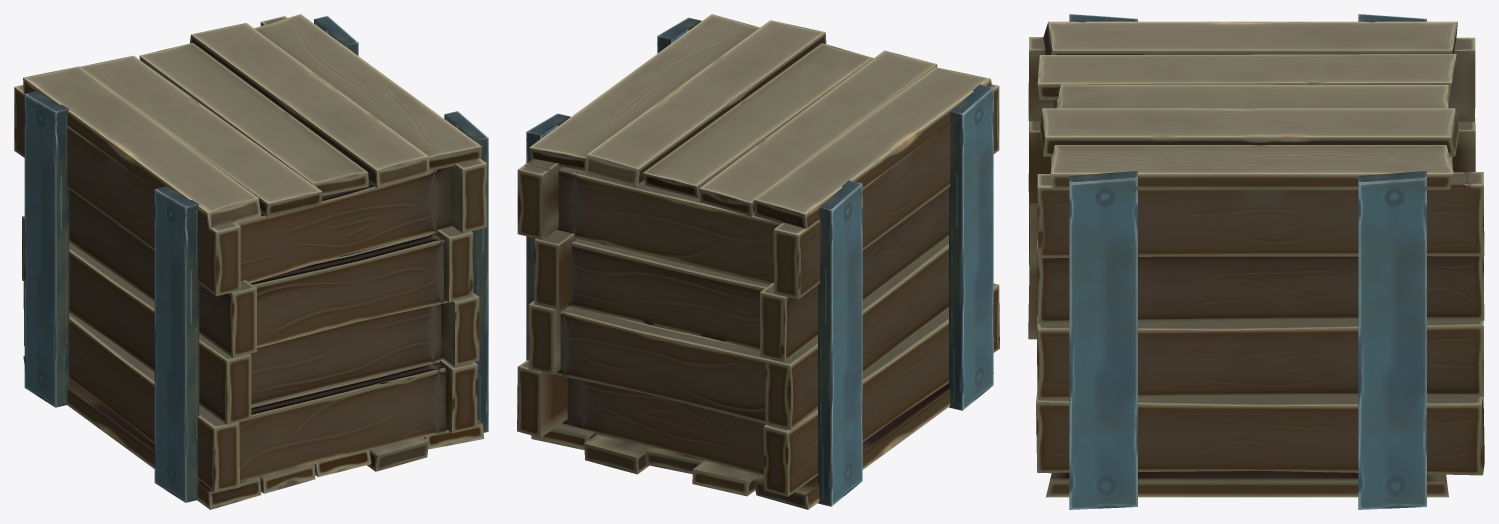
File: SM_Crate_02.fbx
The picture shows the model from 3 angles, left to right: view 1: azimuth 30°, elevation 25°; view 2: azimuth 150°, elevation 25°; view 3: azimuth 270°, elevation 25°; orthographic projection. The views are drawn at different scales.
Parts seen in each view (by area): view 1: SM_Crate_02_LOD0; view 2: SM_Crate_02_LOD0; view 3: SM_Crate_02_LOD0.
Boxes of the visible parts, x1,y1,x2,y2 form: SM_Crate_02_LOD0: [14, 14, 488, 509]; SM_Crate_02_LOD0: [517, 14, 999, 509]; SM_Crate_02_LOD0: [1028, 14, 1484, 509].
Bounding box in the file's own units: 72.97 × 85.65 × 69.56.
Materials: 1 (1 with a texture image).
